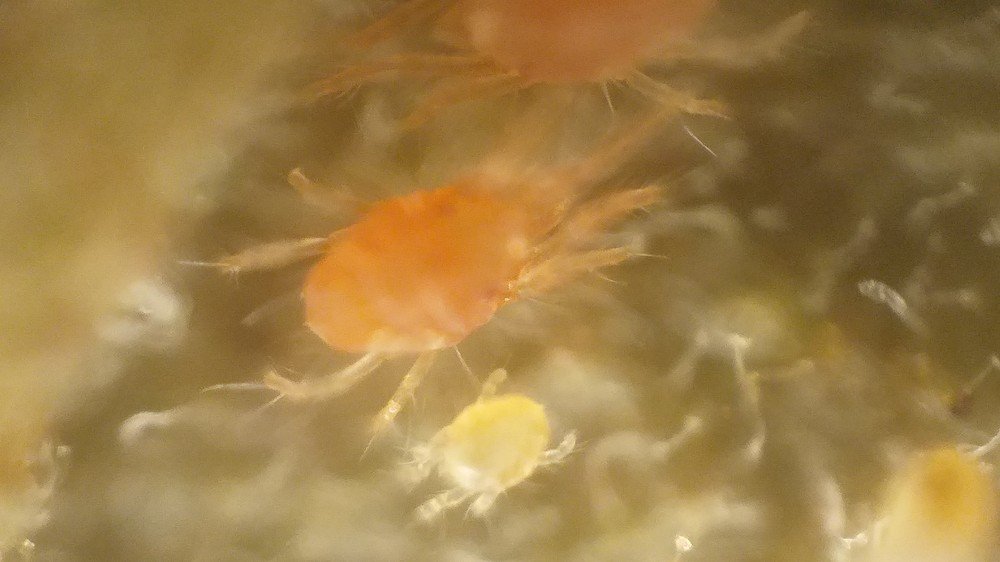Aracnido Rojo: (205, 133, 714, 407), (287, 2, 832, 150), (404, 371, 591, 527)
